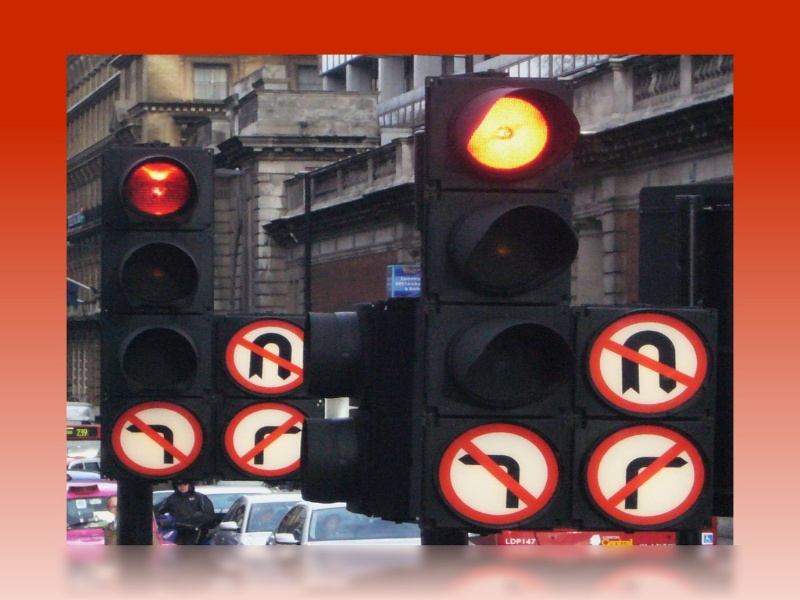no_left_turn: (433, 420, 565, 526), (107, 399, 207, 478)
no_right_turn: (580, 421, 711, 532), (221, 399, 313, 476)
no_u_turn: (586, 306, 709, 415), (222, 315, 305, 394)
red_light: (103, 147, 216, 235)
yellow_light: (423, 75, 589, 195)
